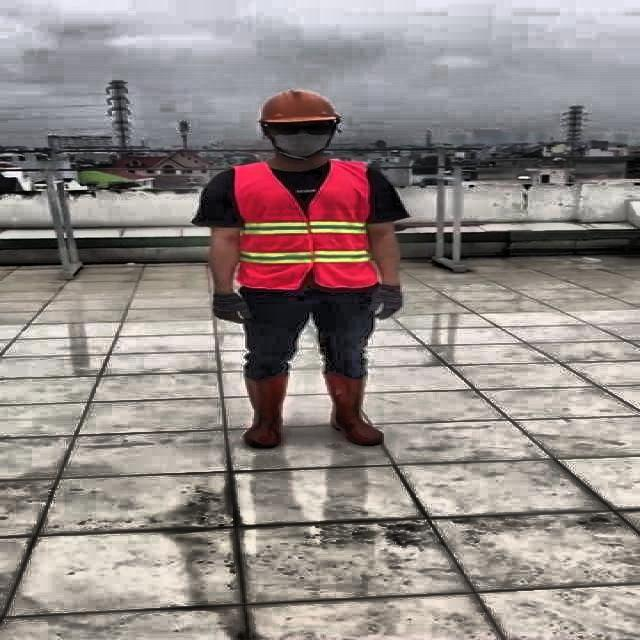safety_jacket: (234, 161, 386, 290)
